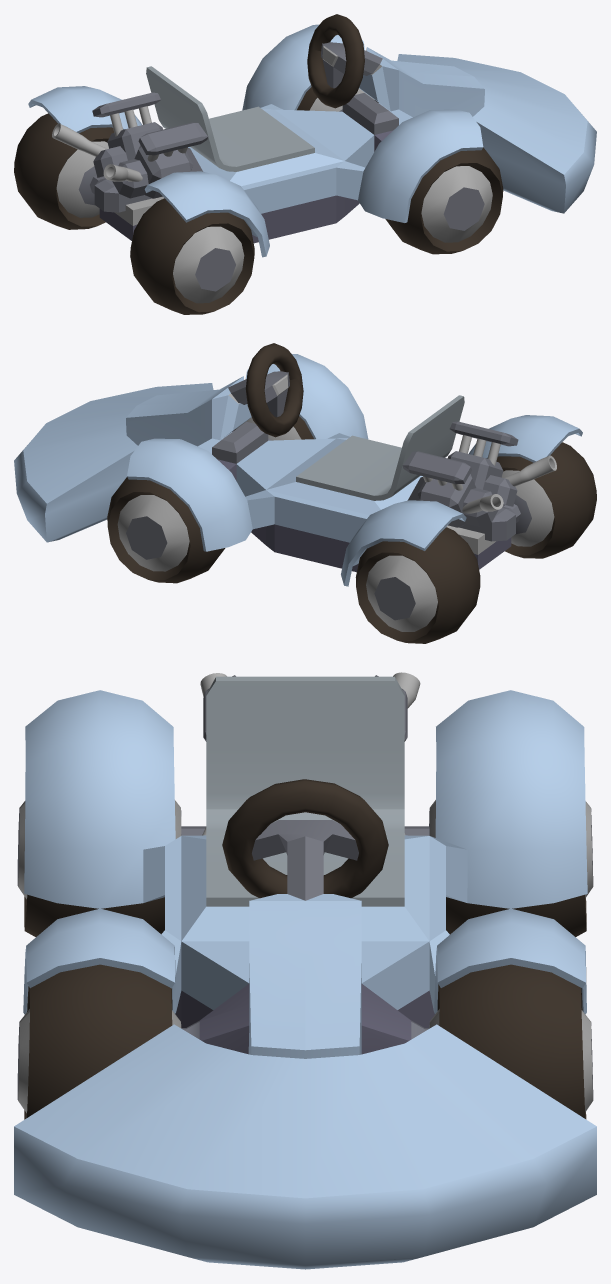
The model's file is Kart_003.fbx.
3 views of the same model, one above another, from view 1: azimuth 30°, elevation 25°; view 2: azimuth 150°, elevation 25°; view 3: azimuth 270°, elevation 25° (orthographic). The views are drawn at different scales.
Visible parts, largest first — view 1: Kart_004; view 2: Kart_004; view 3: Kart_004.
Boxes of the visible parts, x1,y1,x2,y2 form: Kart_004: [14, 14, 596, 314]; Kart_004: [14, 343, 596, 643]; Kart_004: [14, 672, 596, 1269].
Bounding box in the file's own units: 12.39 × 4.76 × 7.2.
